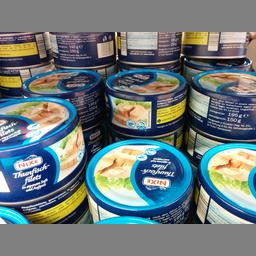fish: (85, 138, 192, 224), (0, 96, 86, 202), (104, 68, 187, 134), (192, 142, 255, 224), (20, 66, 102, 124), (188, 68, 254, 140)
